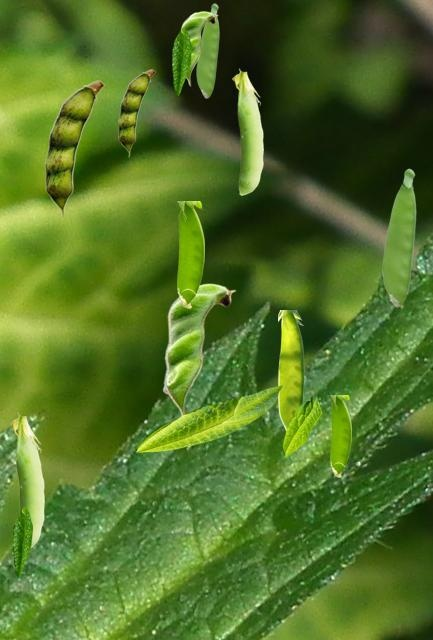pea: (162, 283, 235, 415), (45, 80, 103, 218), (382, 168, 415, 306), (10, 412, 43, 547), (232, 68, 262, 194), (118, 69, 154, 156), (278, 310, 303, 430), (177, 201, 203, 307), (180, 11, 217, 85), (196, 3, 218, 97), (330, 395, 350, 476)
